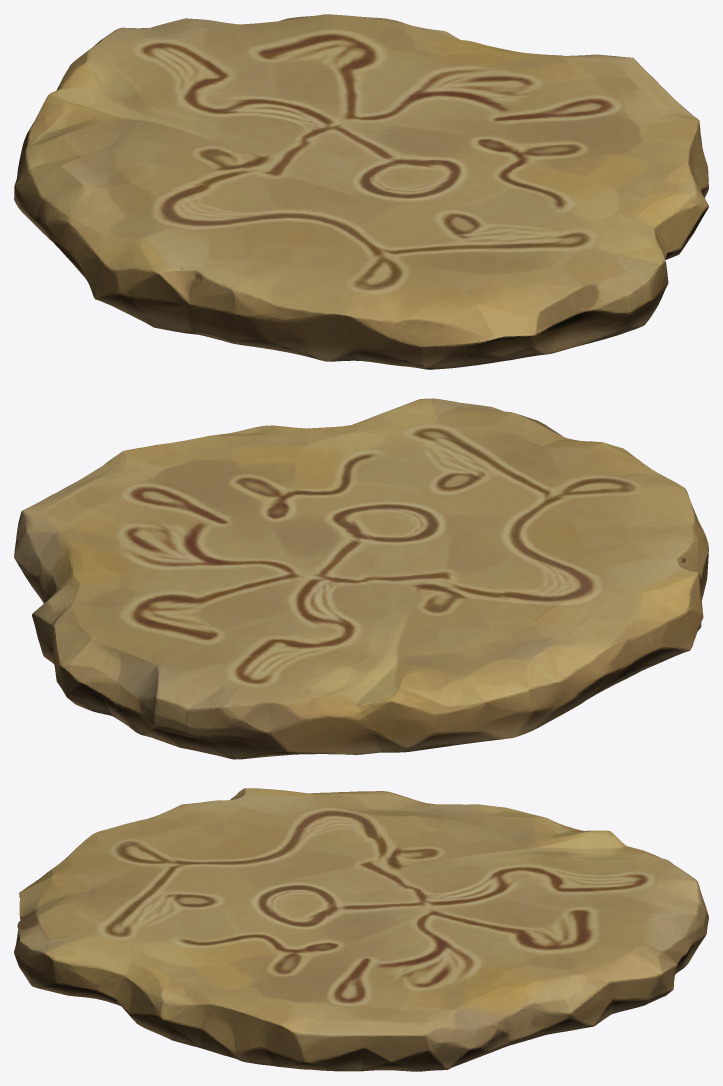
The picture shows the model from 3 angles, top to bottom: view 1: azimuth 30°, elevation 25°; view 2: azimuth 150°, elevation 25°; view 3: azimuth 270°, elevation 25°; orthographic projection. The views are drawn at different scales.
Parts seen in each view (by area): view 1: world; view 2: world; view 3: world.
Boxes of the visible parts, x1,y1,x2,y2 form: world: (14, 14, 708, 369); world: (14, 398, 708, 759); world: (14, 788, 708, 1071).
Bounding box in the file's own units: 0.1583 × 0.0146 × 0.18.
1 material, 1 textured.
